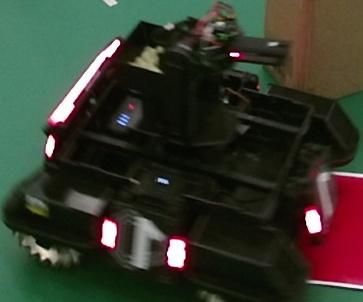armor_1: (102, 218, 185, 268)
light: (50, 38, 121, 123)
